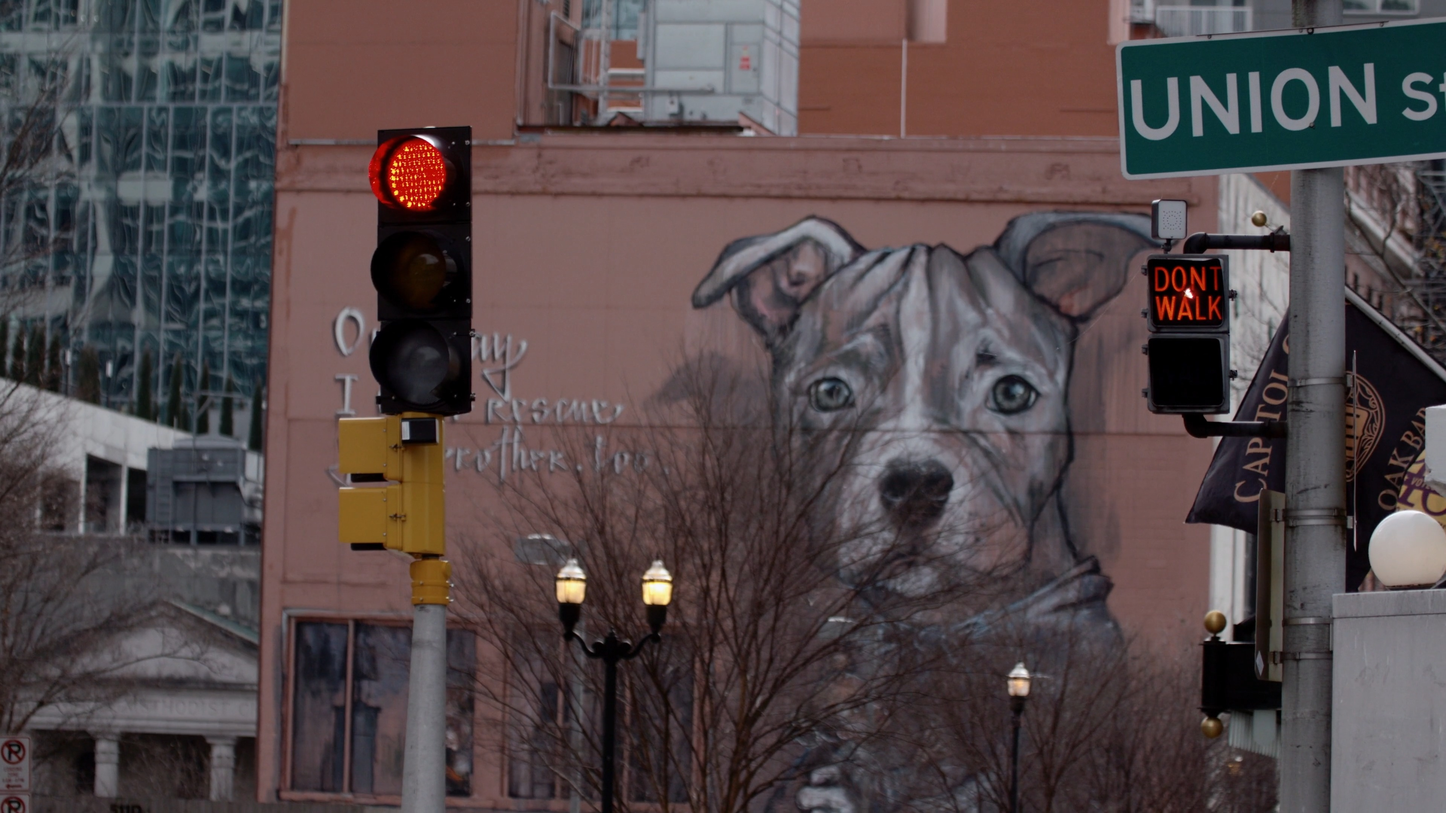red traffic light: (360, 117, 486, 417)
